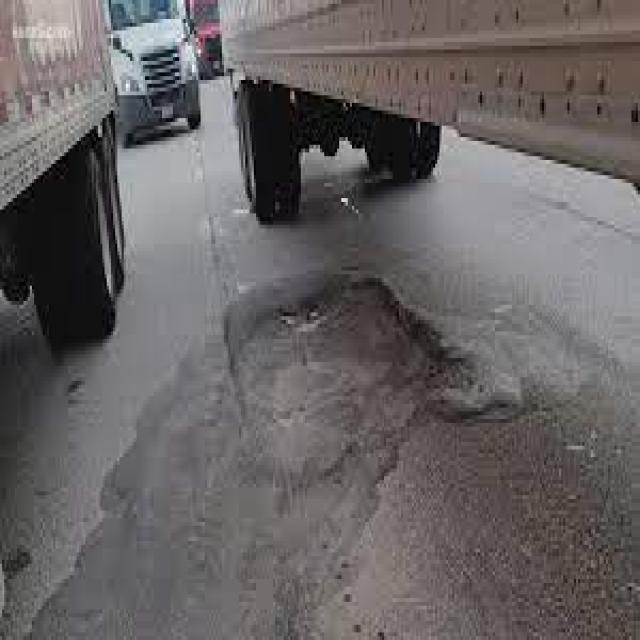Pothole: (224, 274, 474, 434)
